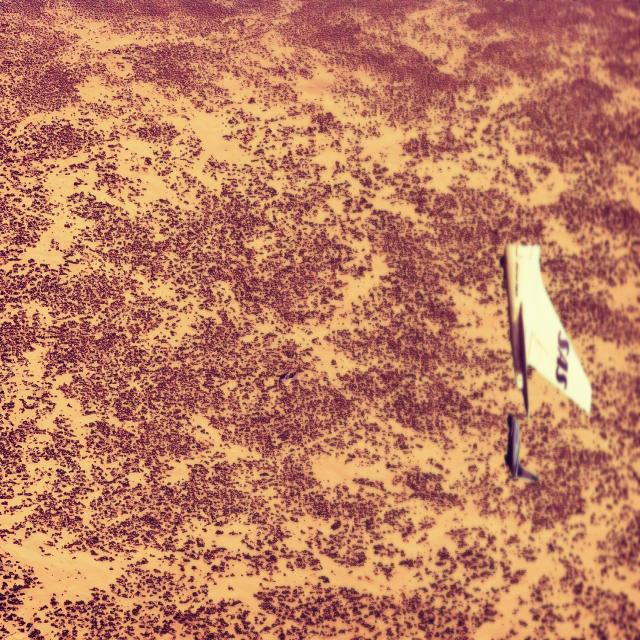airplane: (502, 245, 588, 416), (505, 411, 536, 482)
